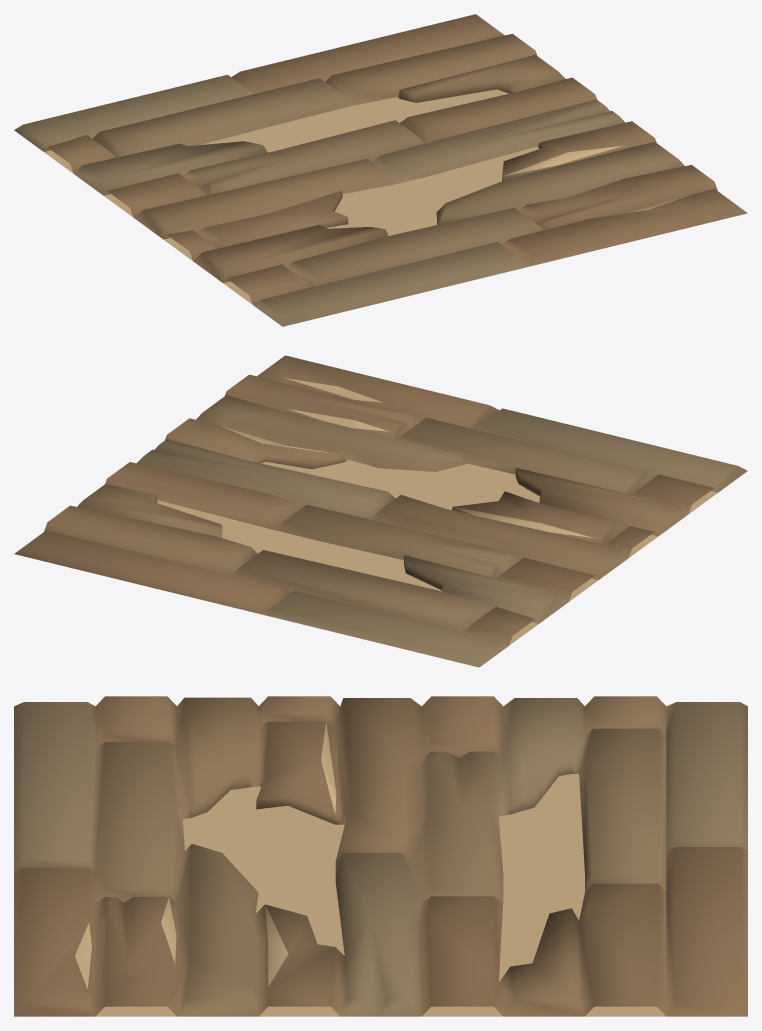
File: rpgpp_av_floor_01c_3x3.gltf
3 views of the same model, one above another, from view 1: azimuth 30°, elevation 25°; view 2: azimuth 150°, elevation 25°; view 3: azimuth 270°, elevation 25° (orthographic). The views are drawn at different scales.
Visible parts, largest first — view 1: rpgpp_av_floor_01c_3x3; view 2: rpgpp_av_floor_01c_3x3; view 3: rpgpp_av_floor_01c_3x3.
Boxes of the visible parts, x1=… form: rpgpp_av_floor_01c_3x3: x1=14, y1=14, x2=747, y2=326; rpgpp_av_floor_01c_3x3: x1=14, y1=355, x2=747, y2=667; rpgpp_av_floor_01c_3x3: x1=14, y1=696, x2=747, y2=1016.
Bounding box in the file's own units: 0.03 × 0.000584 × 0.03.
Materials: 1 (1 with a texture image).
